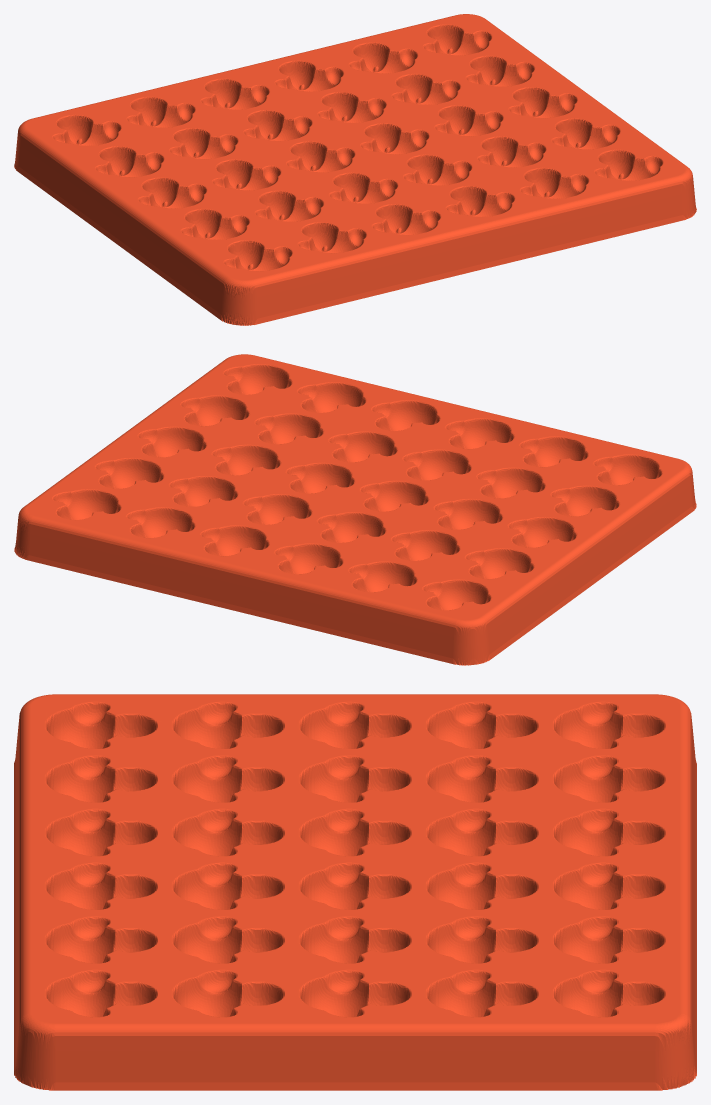
Rendered from mold.glb.
3 views of the same model, one above another, from view 1: azimuth 30°, elevation 25°; view 2: azimuth 150°, elevation 25°; view 3: azimuth 270°, elevation 25° (orthographic). The views are drawn at different scales.
Parts seen in each view (by area): view 1: geometry_0; view 2: geometry_0; view 3: geometry_0.
Boxes of the visible parts, x1,y1,x2,y2 form: geometry_0: (14, 14, 696, 325); geometry_0: (14, 354, 696, 665); geometry_0: (14, 694, 696, 1090).
Bounding box in the file's own units: 0.1744 × 0.0143 × 0.1471.
